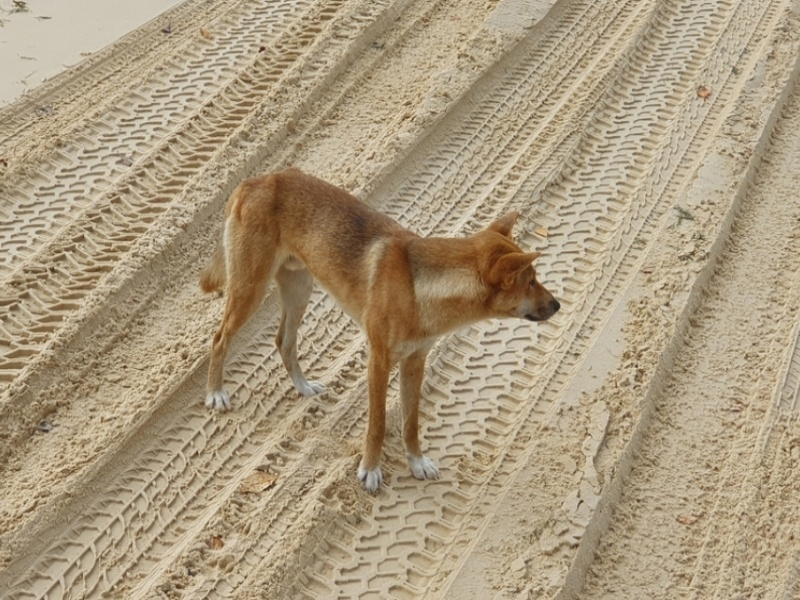dog: (201, 162, 561, 506)
